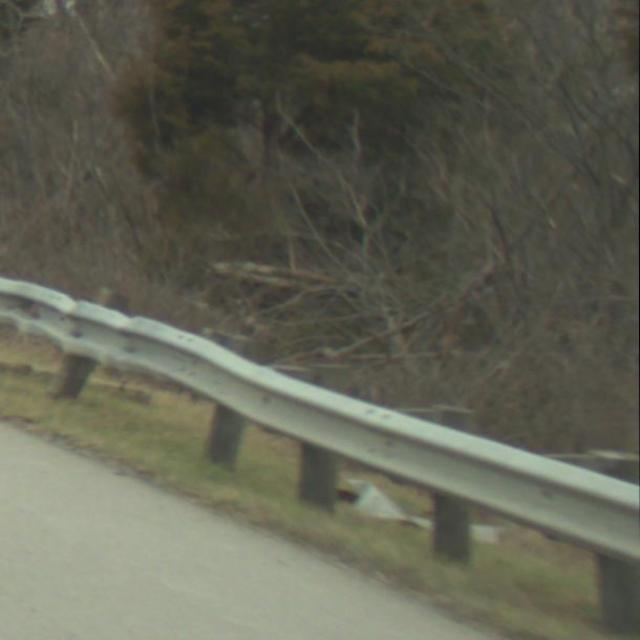Guard rail: (0, 263, 640, 637)
